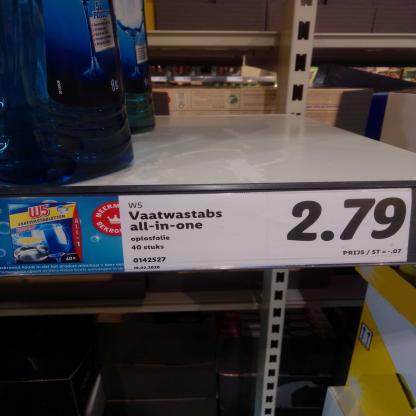prtg: (120, 189, 414, 273)
